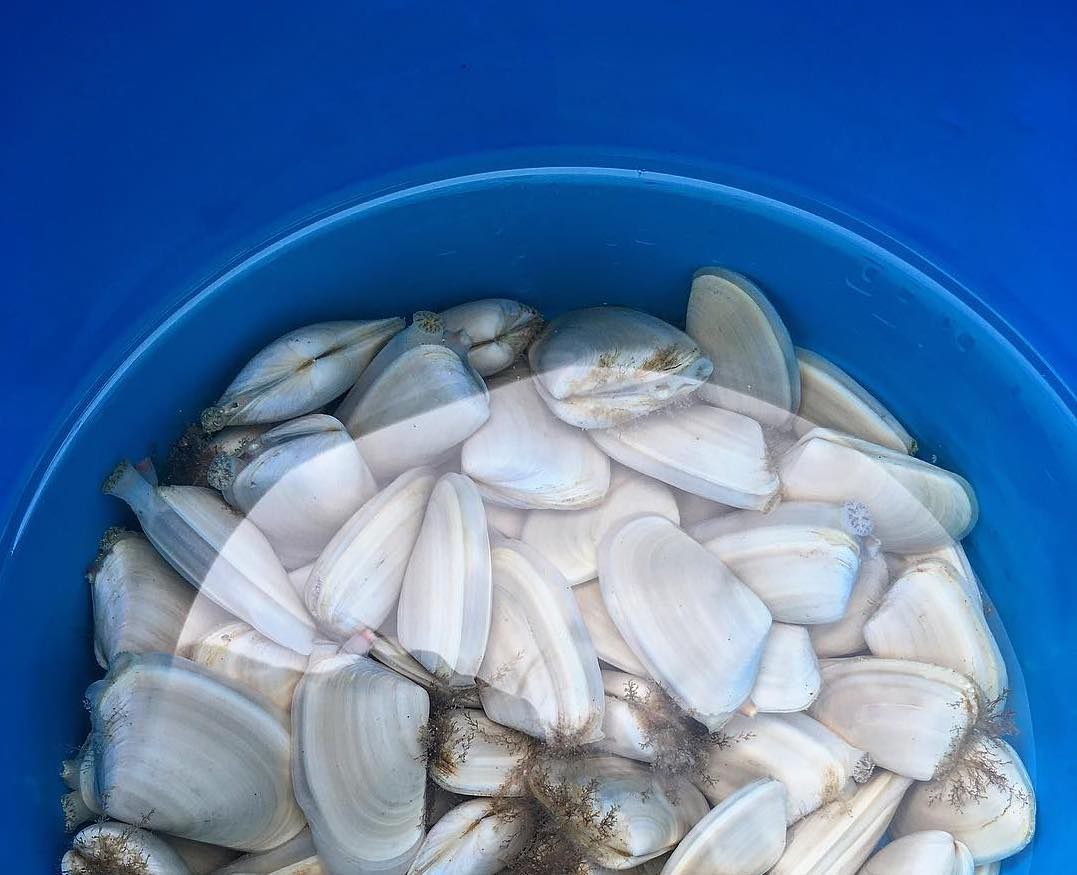tuatua: (87, 651, 307, 851), (597, 509, 772, 730), (143, 483, 315, 664), (300, 644, 431, 863), (479, 538, 601, 763), (779, 421, 983, 552), (388, 467, 503, 692), (588, 389, 787, 519), (459, 354, 616, 515), (334, 319, 492, 475), (524, 302, 716, 428), (862, 557, 1010, 719), (526, 748, 717, 873), (815, 643, 976, 785), (217, 410, 374, 554), (295, 467, 420, 644), (202, 310, 396, 420), (693, 500, 863, 625), (682, 267, 801, 429), (660, 772, 794, 875), (439, 294, 548, 386), (419, 799, 536, 875)
